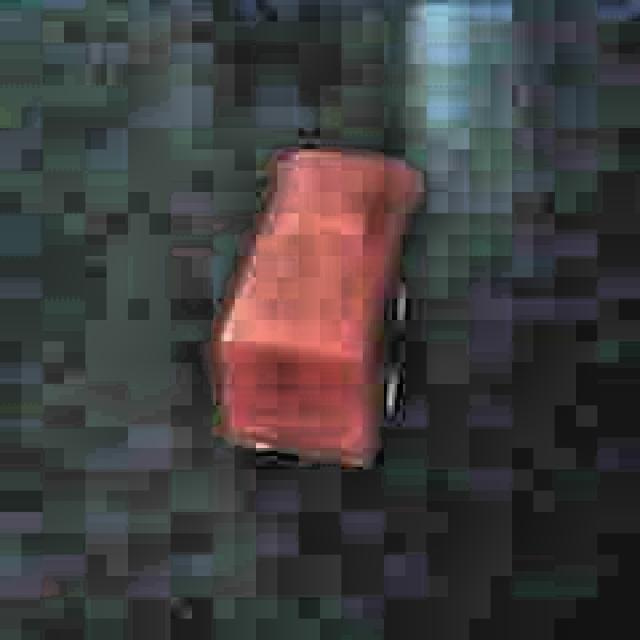bus: (214, 140, 422, 475)
